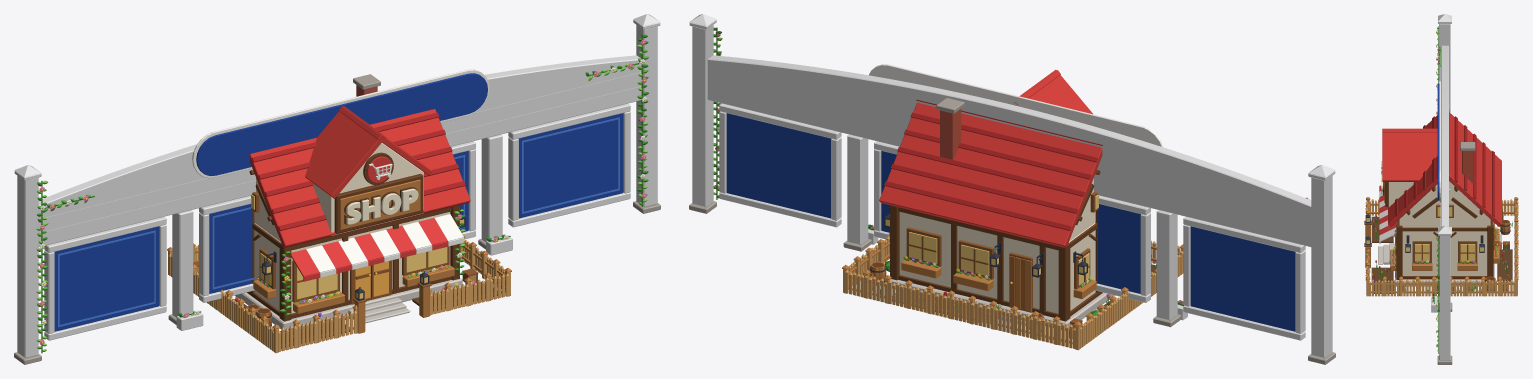
The model's file is ShopSigns.fbx.
3 views of the same model, side by side, from view 1: azimuth 30°, elevation 25°; view 2: azimuth 150°, elevation 25°; view 3: azimuth 270°, elevation 25° (orthographic). The views are drawn at different scales.
Parts seen in each view (by area): view 1: Lobby_RunGateWood_wood, Lobby_ShopHouse, Lobby_RunGate, Lobby_ShopFence, Lobby_RunGateWood_wood2, Lobby_ShopLetters, Lobby_ShopYard; view 2: Lobby_RunGateWood_wood, Lobby_ShopHouse, Lobby_RunGate, Lobby_ShopFence, Lobby_ShopYard, Lobby_RunGateWood_wood2; view 3: Lobby_ShopHouse, Lobby_ShopFence, Lobby_RunGateWood_wood, Lobby_ShopYard, Lobby_RunGate, Lobby_RunGateWood_wood2.
Boxes of the visible parts, left/top/right/bottom form: Lobby_RunGateWood_wood: left=17, top=25, right=657, bottom=358; Lobby_ShopHouse: left=235, top=74, right=470, bottom=329; Lobby_RunGate: left=14, top=34, right=660, bottom=364; Lobby_ShopFence: left=167, top=234, right=511, bottom=353; Lobby_RunGateWood_wood2: left=14, top=14, right=660, bottom=233; Lobby_ShopLetters: left=344, top=187, right=418, bottom=224; Lobby_ShopYard: left=193, top=207, right=497, bottom=348; Lobby_RunGateWood_wood: left=692, top=25, right=1332, bottom=358; Lobby_ShopHouse: left=879, top=69, right=1114, bottom=328; Lobby_RunGate: left=689, top=27, right=1335, bottom=364; Lobby_ShopFence: left=842, top=232, right=1183, bottom=350; Lobby_ShopYard: left=861, top=207, right=1156, bottom=338; Lobby_RunGateWood_wood2: left=689, top=14, right=1335, bottom=180; Lobby_ShopHouse: left=1378, top=110, right=1501, bottom=286; Lobby_ShopFence: left=1364, top=197, right=1518, bottom=296; Lobby_RunGateWood_wood: left=1431, top=24, right=1450, bottom=360; Lobby_ShopYard: left=1371, top=208, right=1513, bottom=293; Lobby_RunGate: left=1431, top=26, right=1452, bottom=364; Lobby_RunGateWood_wood2: left=1438, top=14, right=1451, bottom=235.
Size of the model in its own units: 90.6 by 26.44 by 27.06.
2 materials, 1 textured.
